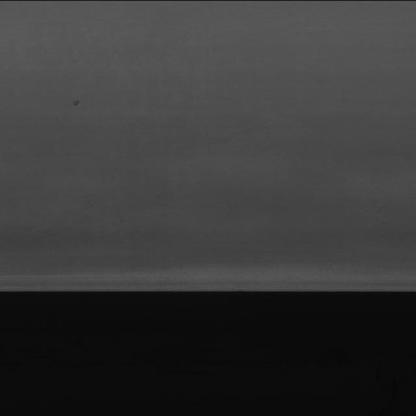inclusion: (60, 93, 90, 112)
